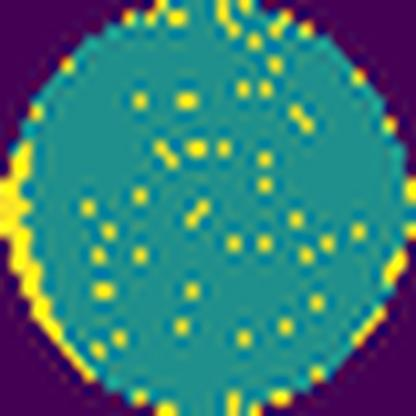Edge-Loc: (0, 144, 98, 385)
